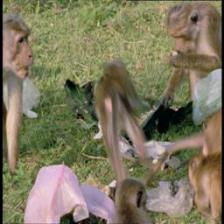monkey: (4, 9, 40, 86), (160, 7, 200, 63)
